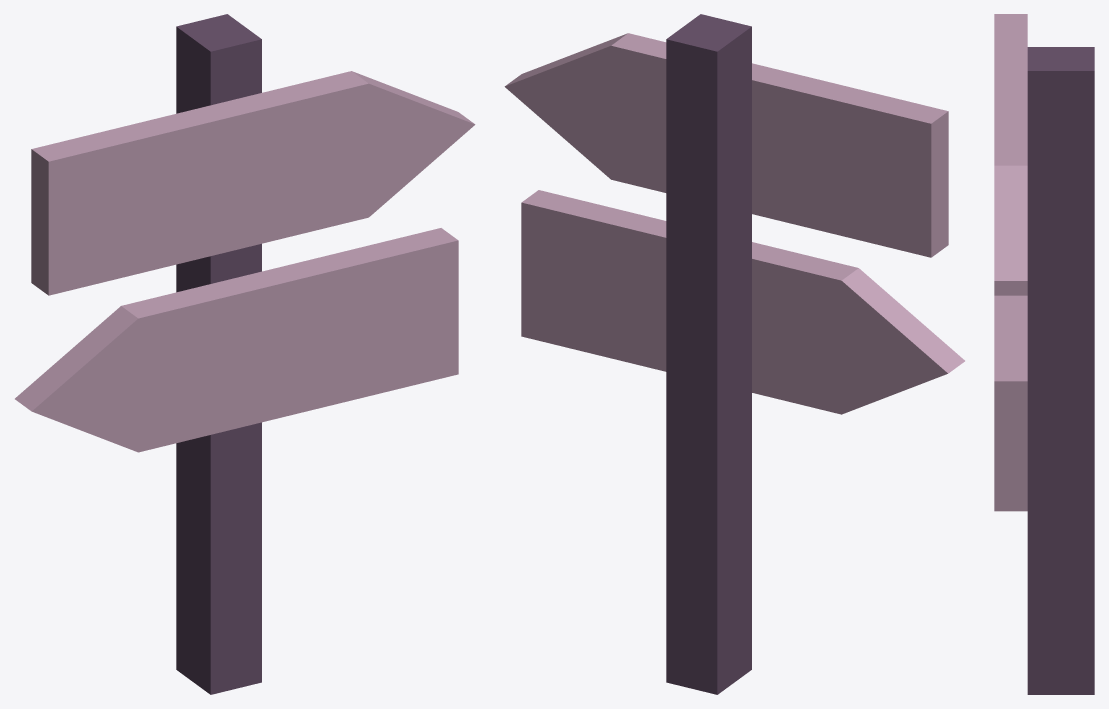
File: TW_SIGN_FORK_A_LOD0.glb
The picture shows the model from 3 angles, left to right: view 1: azimuth 30°, elevation 25°; view 2: azimuth 150°, elevation 25°; view 3: azimuth 270°, elevation 25°; orthographic projection. The views are drawn at different scales.
Visible parts, largest first — view 1: TW_SIGN_FORK_A_LOD0; view 2: TW_SIGN_FORK_A_LOD0; view 3: TW_SIGN_FORK_A_LOD0.
Boxes of the visible parts, x1=… form: TW_SIGN_FORK_A_LOD0: x1=15, y1=14, x2=475, y2=694; TW_SIGN_FORK_A_LOD0: x1=504, y1=14, x2=964, y2=694; TW_SIGN_FORK_A_LOD0: x1=994, y1=14, x2=1094, y2=694.
Size of the model in its own units: 1.04 by 1.44 by 0.21.
1 material, 1 textured.
